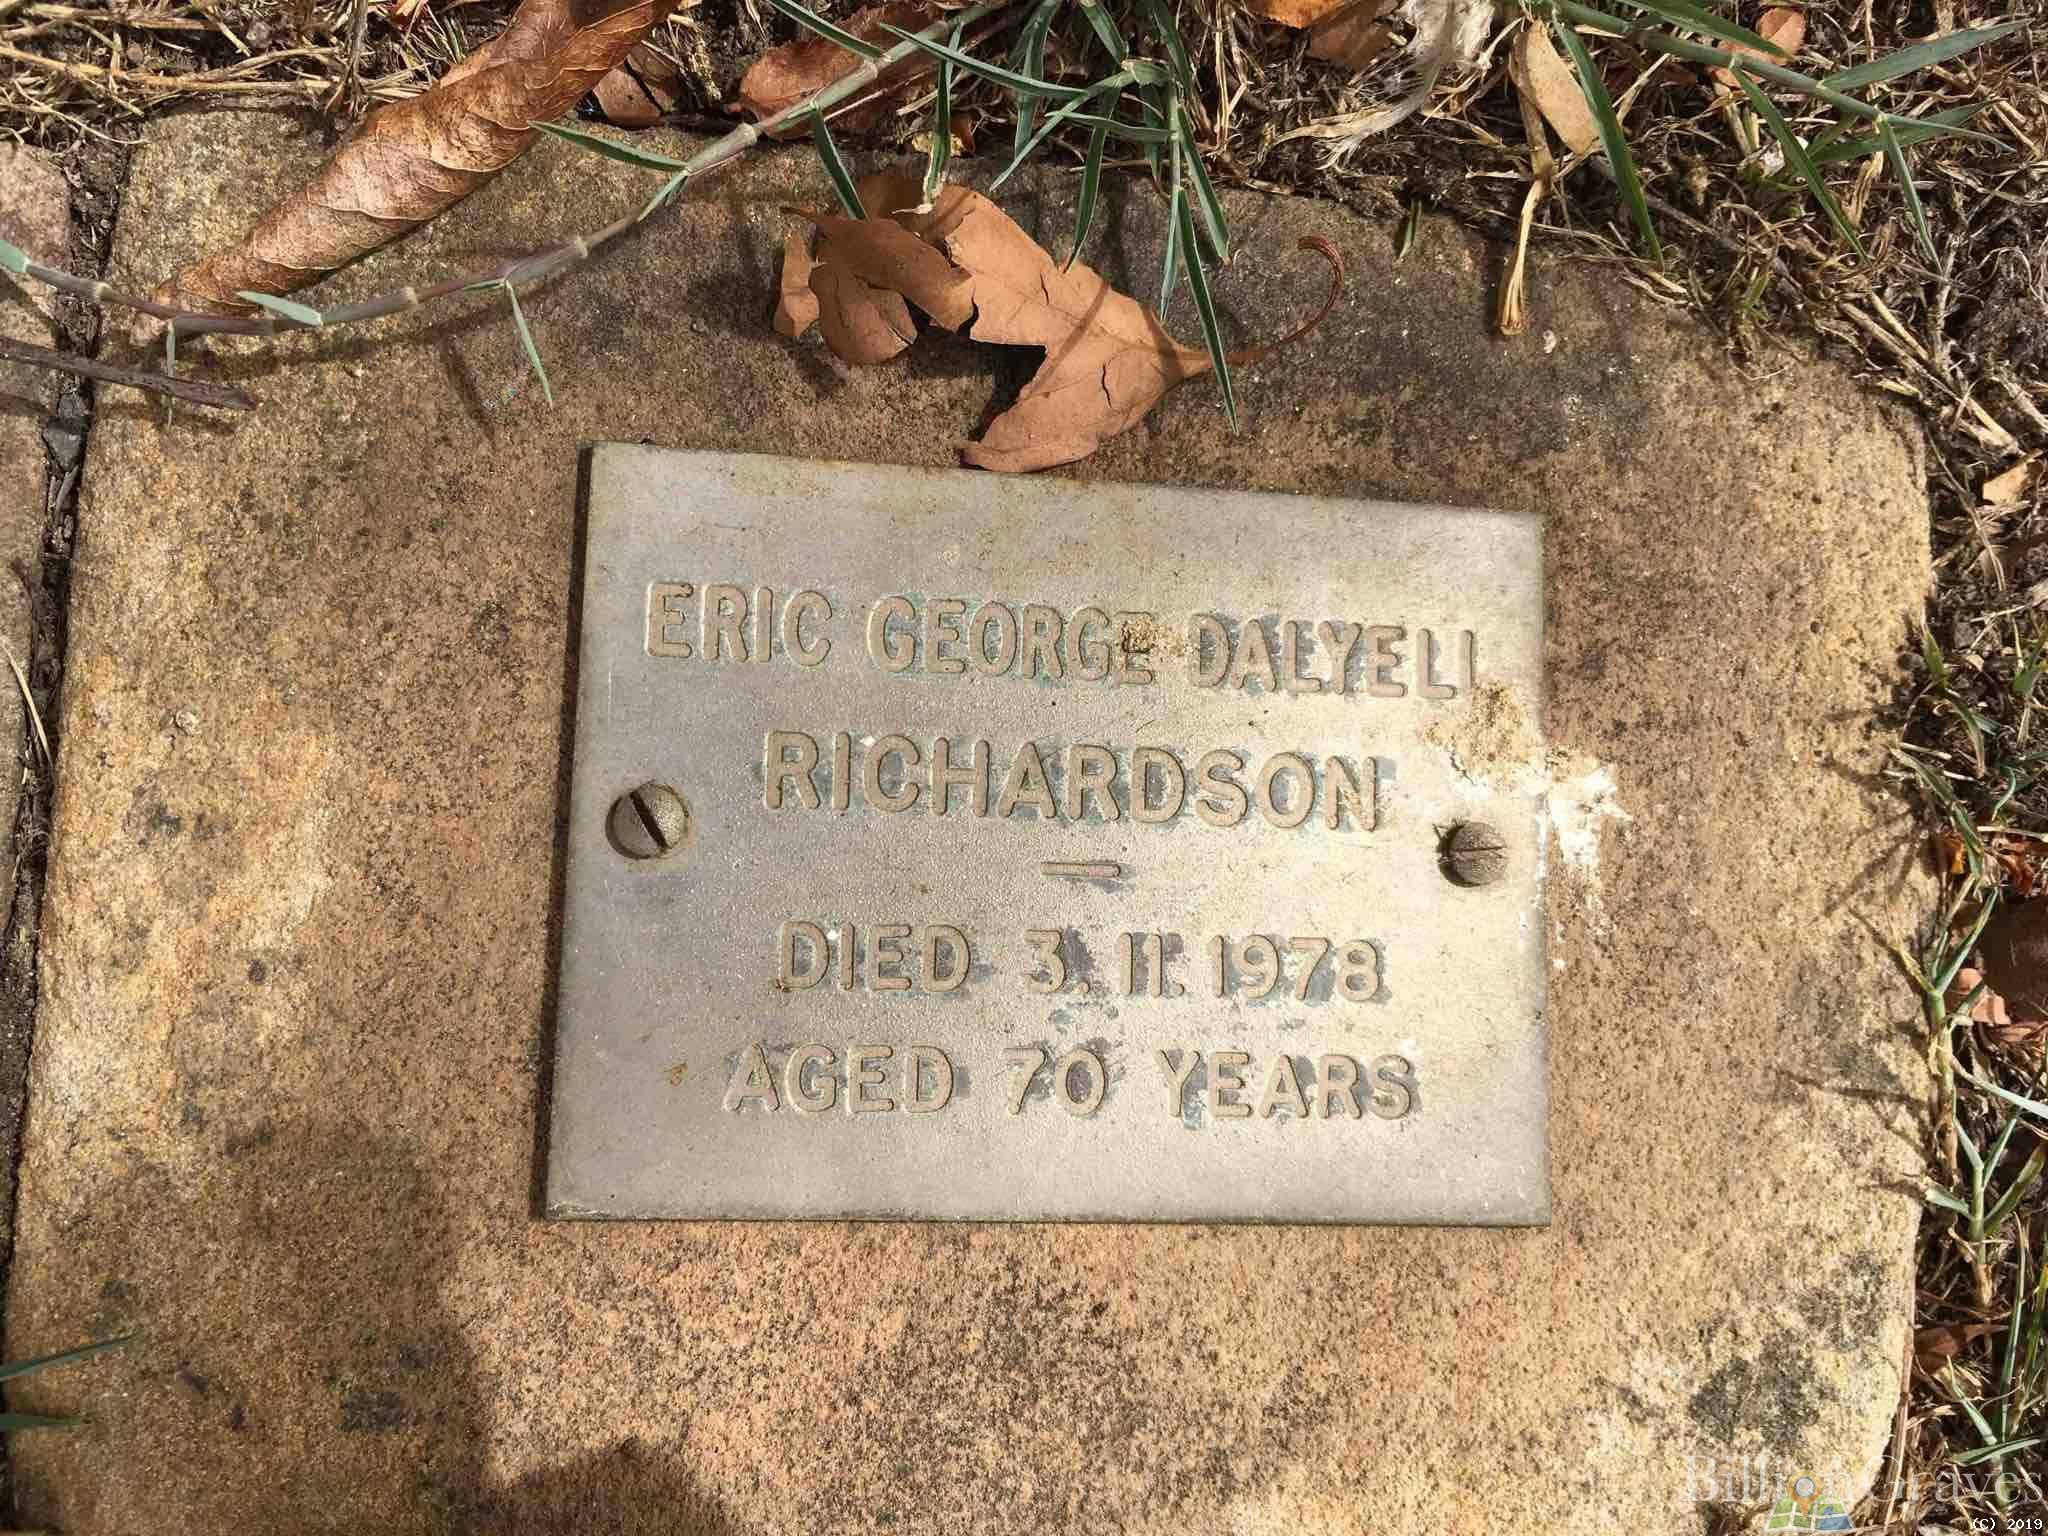flat: (153, 15, 1942, 1533)
